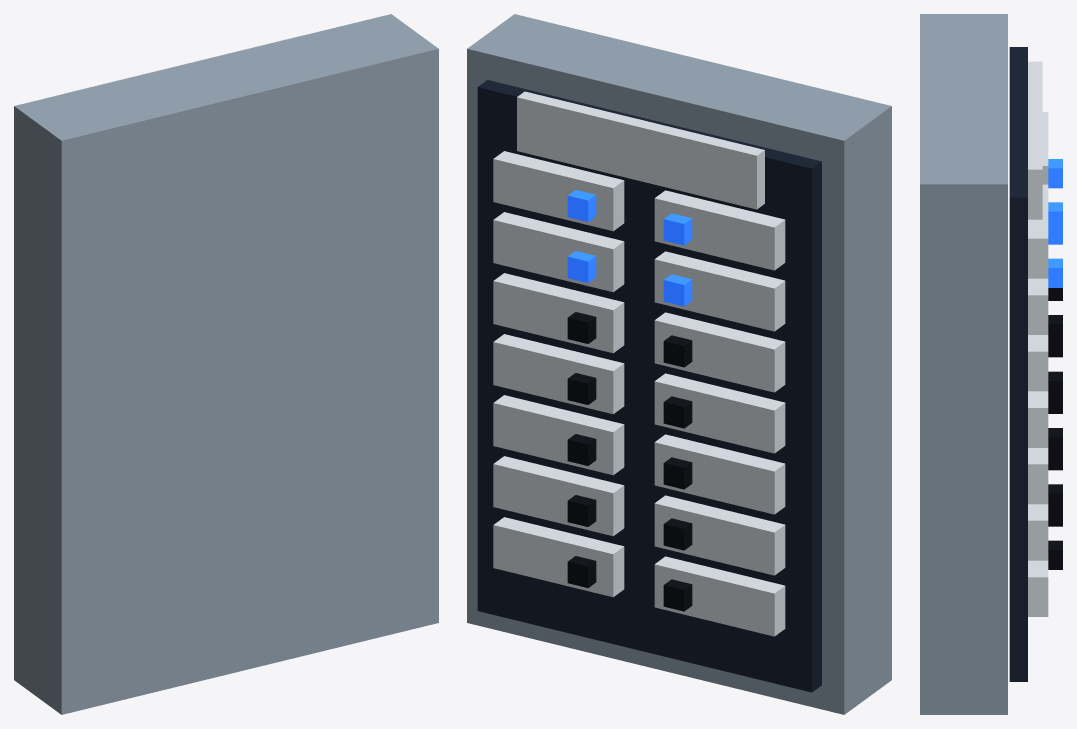
File: panel.glb
3 renders of one model, left to right at view 1: azimuth 30°, elevation 25°; view 2: azimuth 150°, elevation 25°; view 3: azimuth 270°, elevation 25°, orthographic. The views are drawn at different scales.
Visible parts, largest first — view 1: Electrical panel; view 2: Electrical panel; view 3: Electrical panel.
Part boxes in pixels (x1,y1,x2,y2): Electrical panel: (14, 14, 438, 714); Electrical panel: (467, 14, 891, 714); Electrical panel: (920, 14, 1062, 714).
Bounding box in the file's own units: 2.2 × 3.2 × 0.78.
